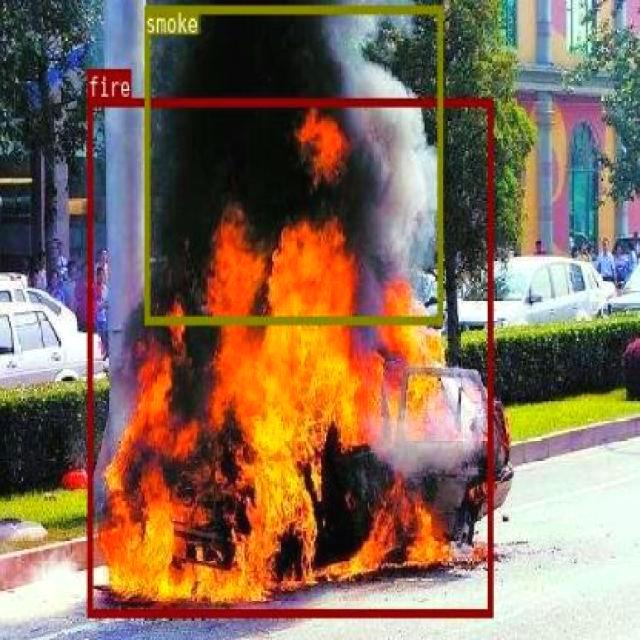fire: (86, 97, 492, 616)
smoke: (144, 4, 442, 323)
